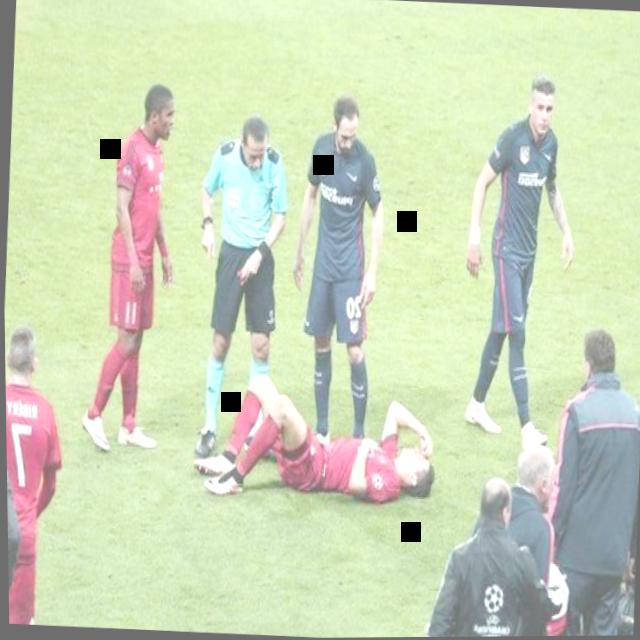Fall-Detected: (197, 356, 446, 511)
